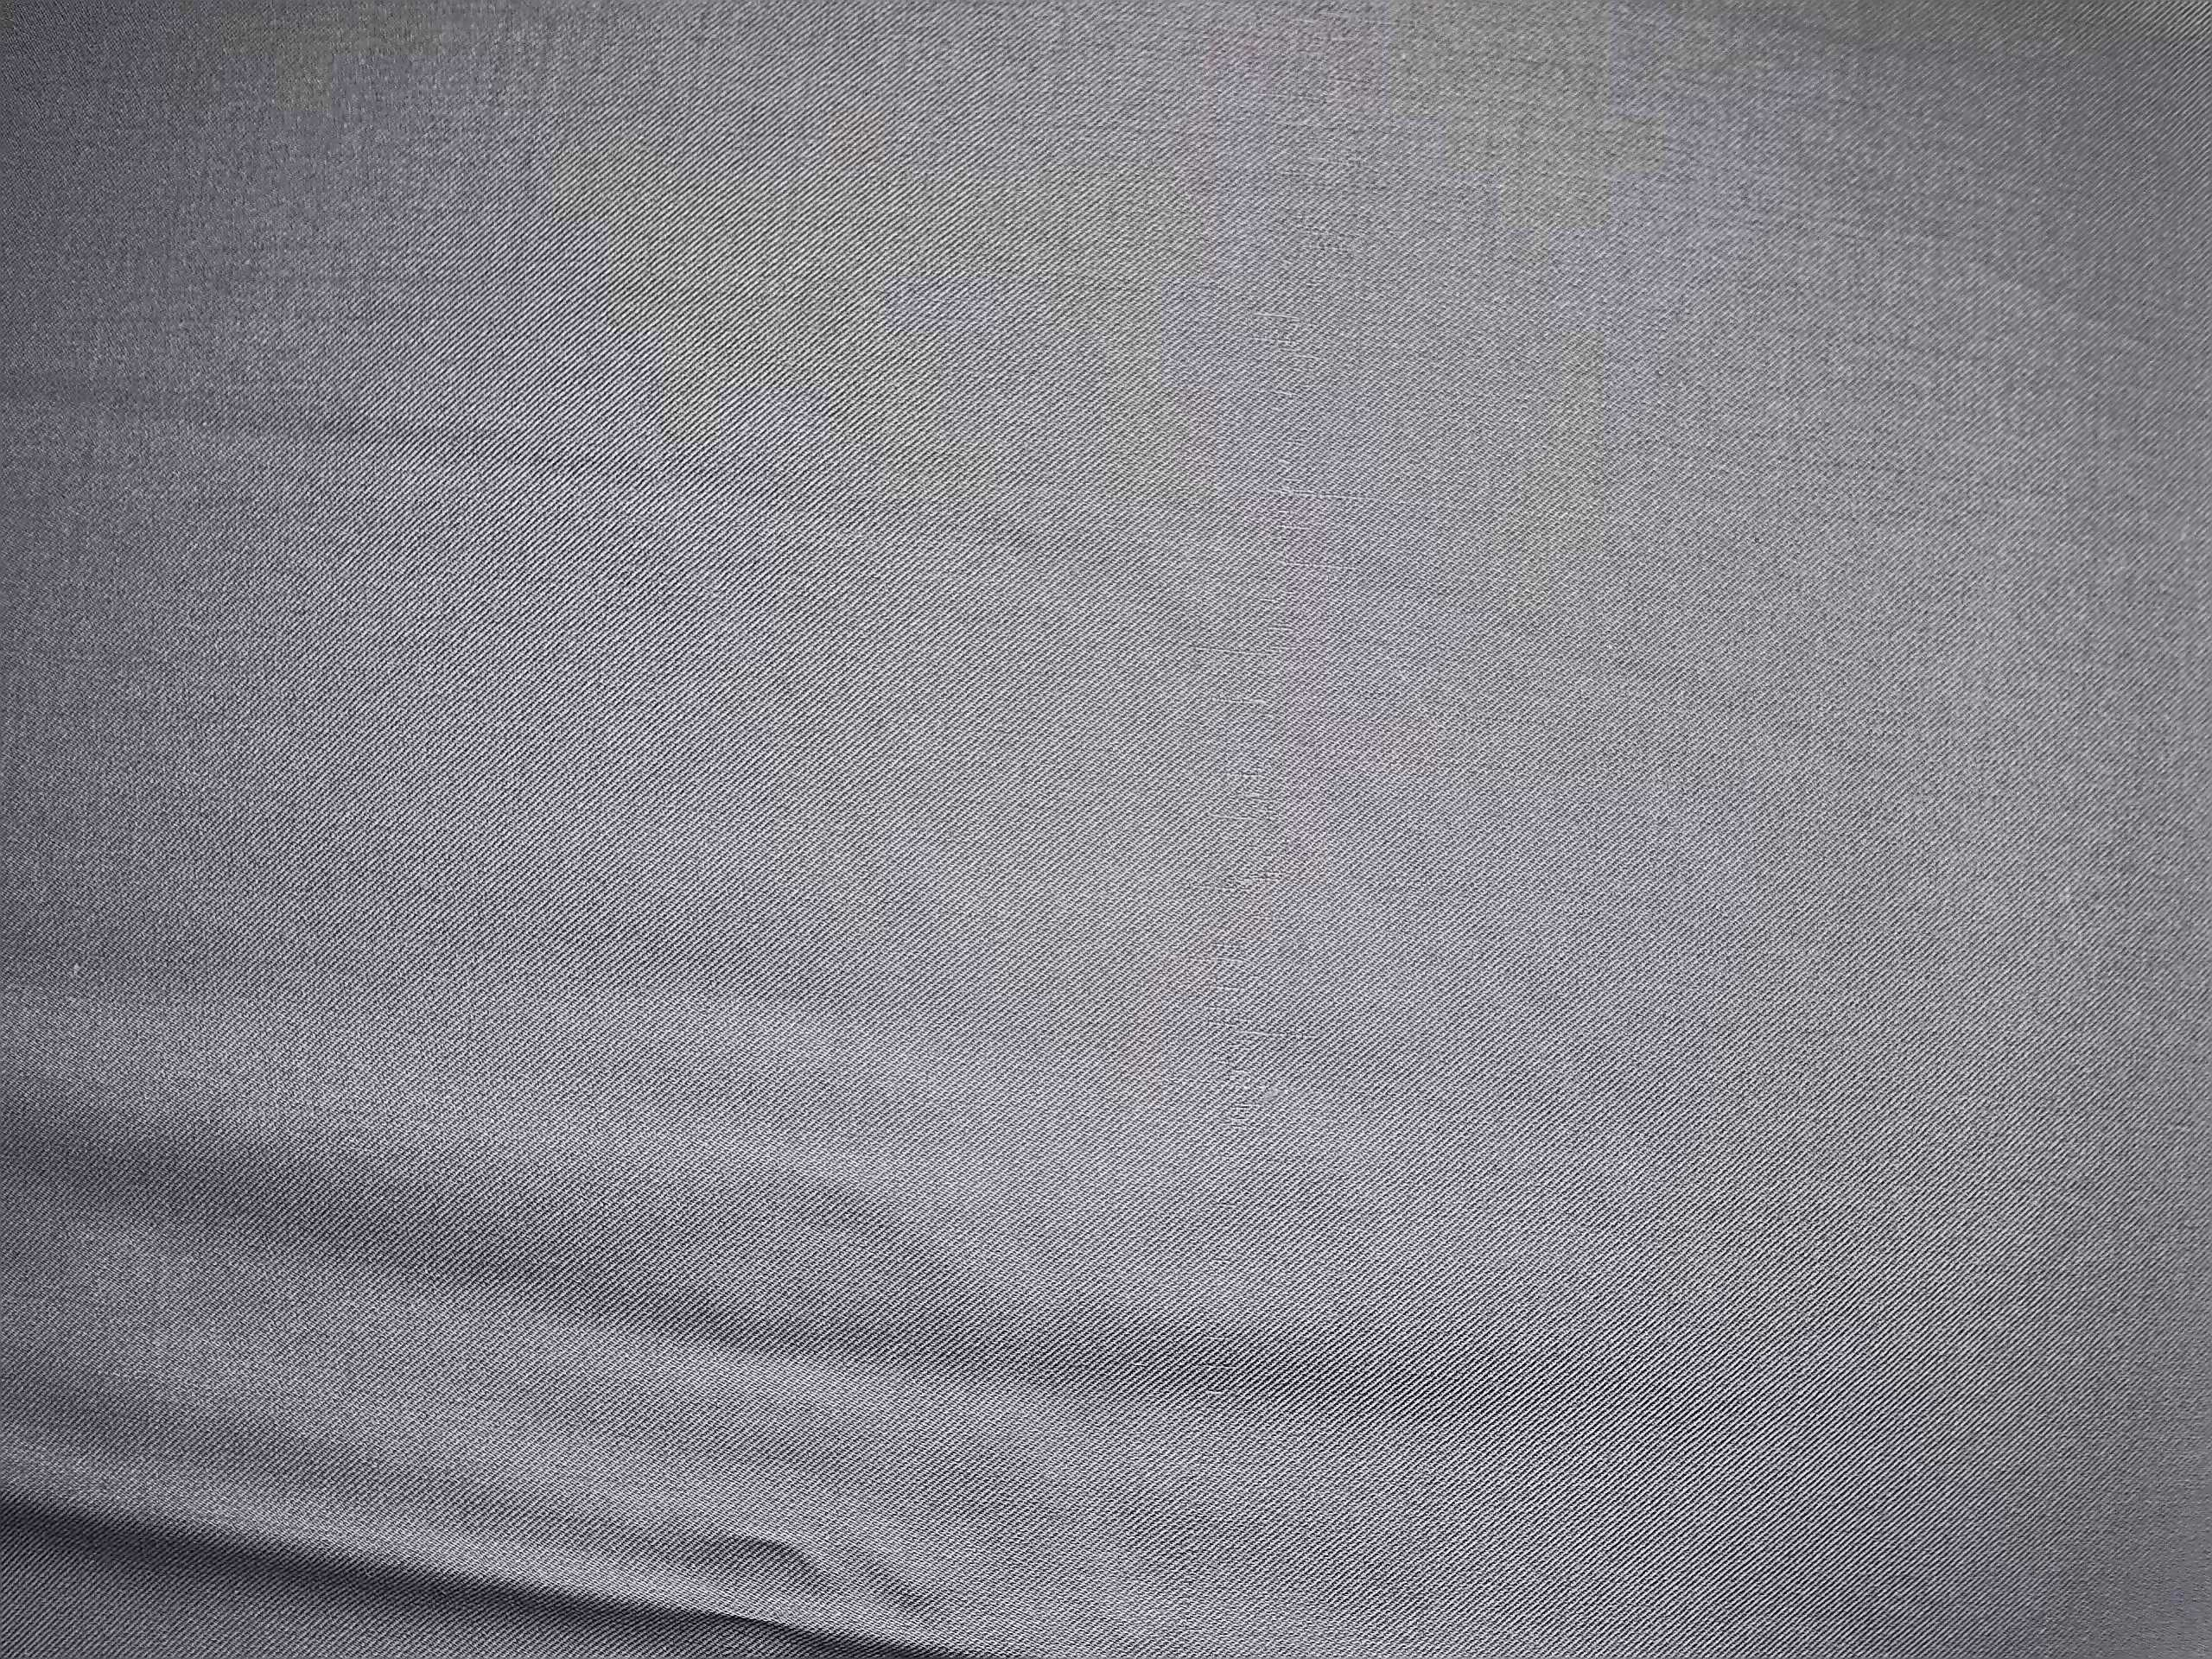jumps: (1184, 312, 1322, 1222)
